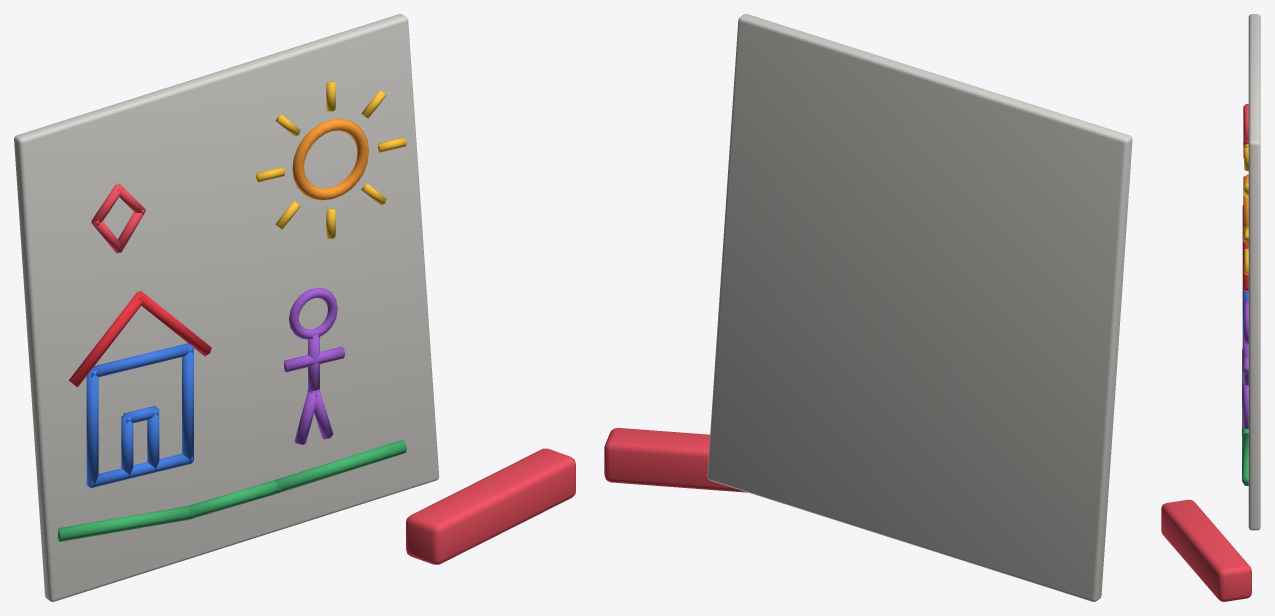
The model's file is d-crayon.glb.
3 views of the same model, side by side, from view 1: azimuth 30°, elevation 25°; view 2: azimuth 150°, elevation 25°; view 3: azimuth 270°, elevation 25° (orthographic). The views are drawn at different scales.
Visible parts, largest first — view 1: d-crayon; view 2: d-crayon; view 3: d-crayon.
Boxes of the visible parts, <box> form: d-crayon: <box>14,14,575,601</box>; d-crayon: <box>604,14,1132,601</box>; d-crayon: <box>1161,14,1260,601</box>.
Bounding box in the file's own units: 0.1791 × 0.16 × 0.0358.
